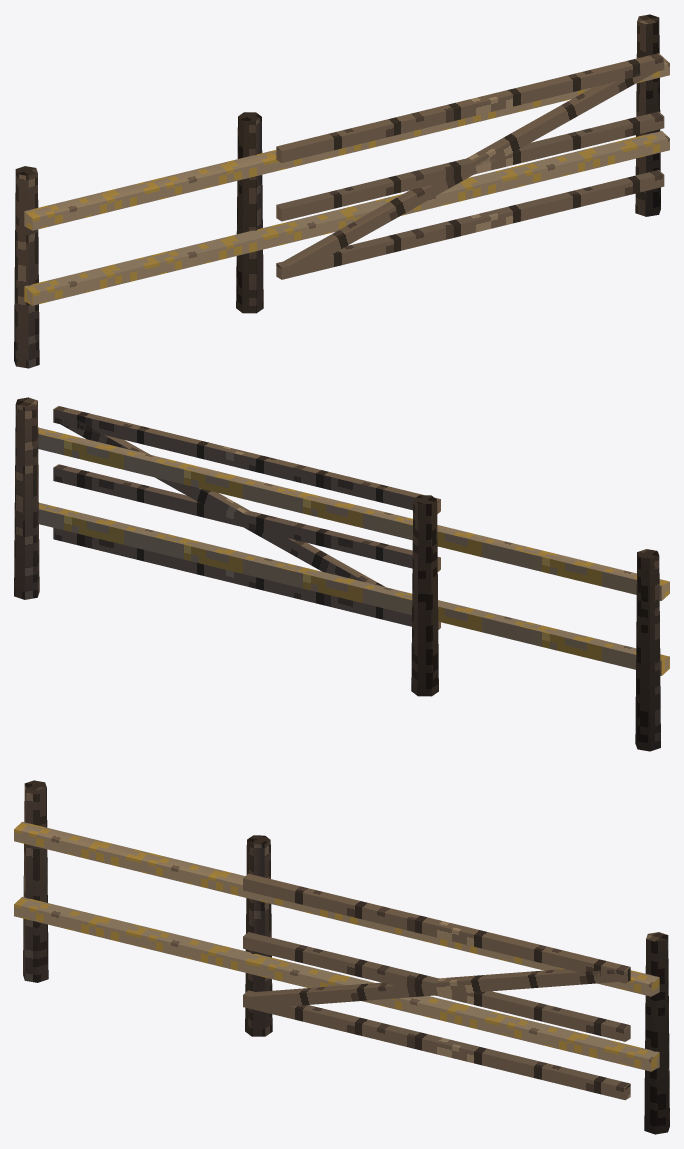
File: vlg.fence__gate.glb
3 views of the same model, one above another, from view 1: azimuth 30°, elevation 25°; view 2: azimuth 150°, elevation 25°; view 3: azimuth 330°, elevation 25° (orthographic).
Parts seen in each view (by area): view 1: kit_rails, kit_posts; view 2: kit_rails, kit_posts; view 3: kit_rails, kit_posts.
Part boxes in pixels (x1,y1,x2,y2): kit_rails: (24,53,669,305); kit_posts: (14,14,660,368); kit_rails: (38,406,669,675); kit_posts: (14,397,660,751); kit_rails: (14,821,659,1100); kit_posts: (23,780,669,1134).
Bounding box in the file's own units: 4.05 × 1.15 × 0.335.
3 materials, 3 textured.
